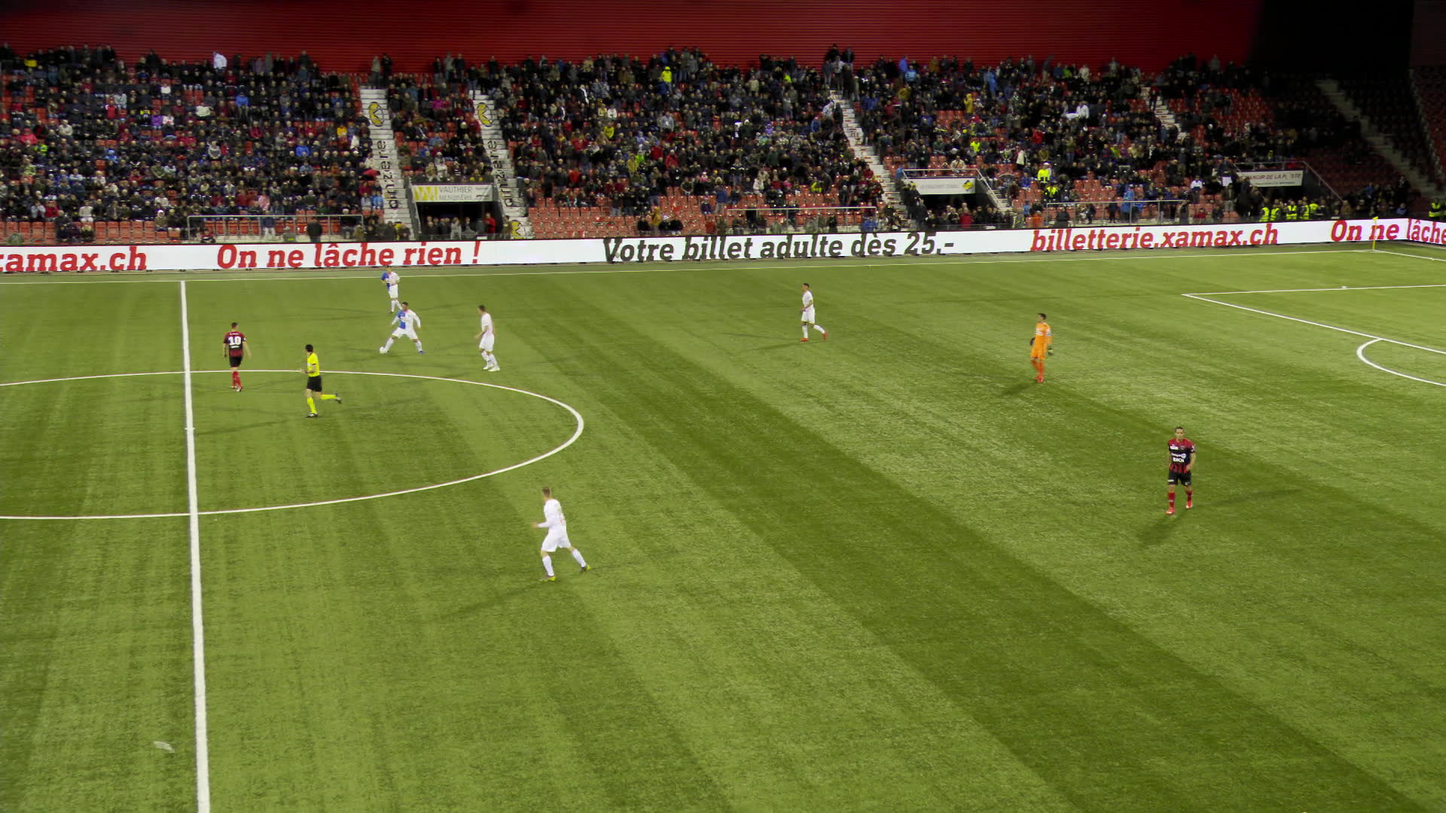ball: (377, 347, 386, 355)
player: (527, 486, 587, 580), (1163, 425, 1196, 513), (1021, 314, 1054, 382), (220, 321, 249, 391), (384, 302, 422, 354), (472, 305, 498, 372), (800, 280, 821, 342), (381, 266, 404, 313)
referee: (297, 339, 342, 415)
